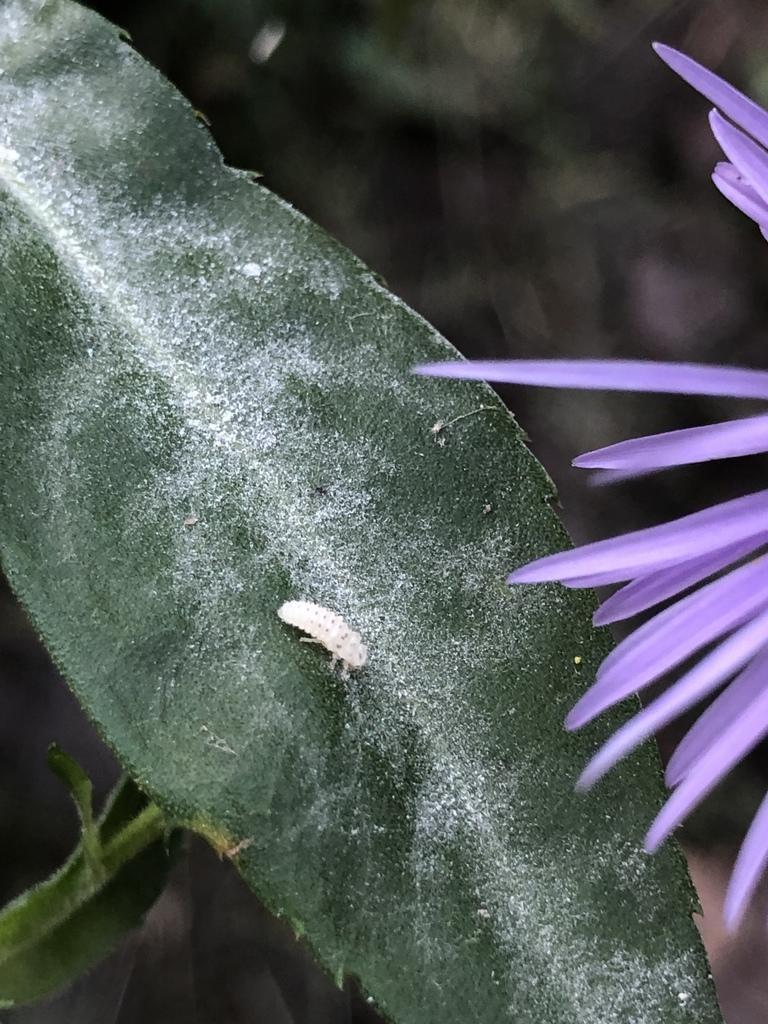ladybug: (275, 599, 373, 674)
